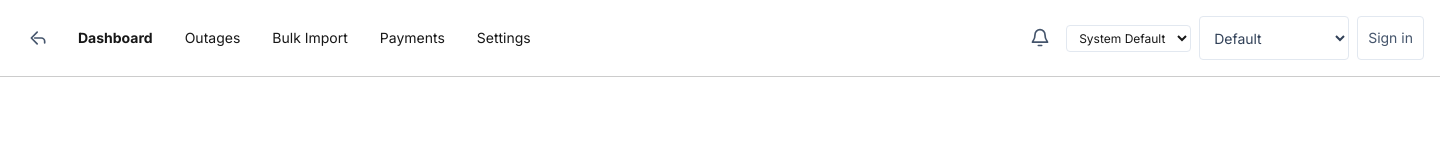
Test: Navigation sidebar collapse › collapses the links and flips the toggle label
Click the button with test id "nav-collapse-toggle": point(38, 38) [16,16,60,60]
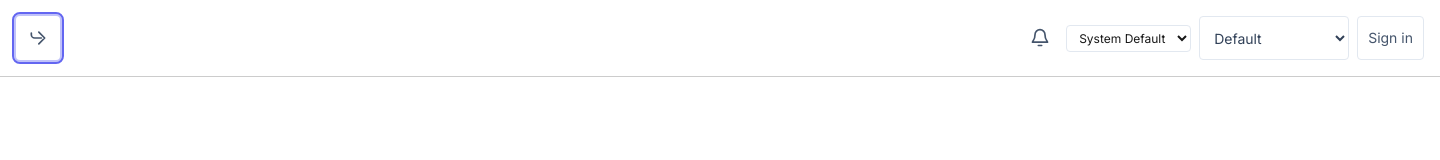
Result: the button with test id "nav-collapse-toggle" is collapsed at [16,16,60,60]
